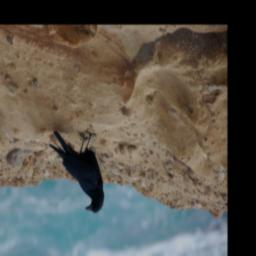Crow: (49, 127, 105, 217)
